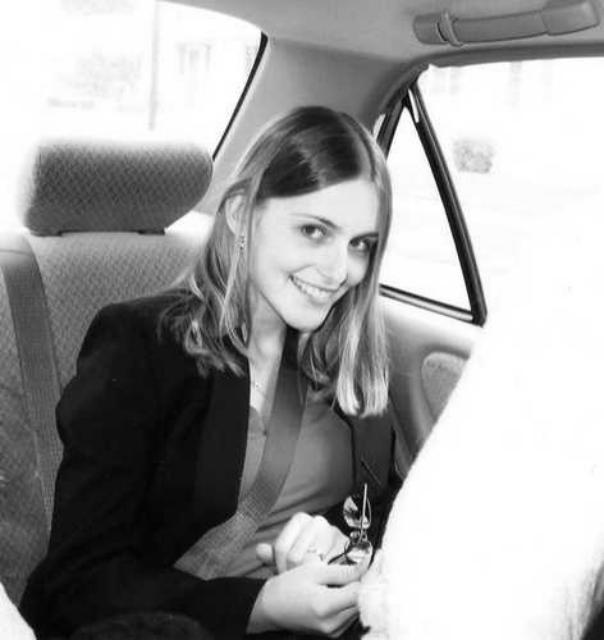SafeDriving: (290, 213, 336, 244), (342, 228, 376, 258)
Seatbelt: (170, 318, 318, 586)
